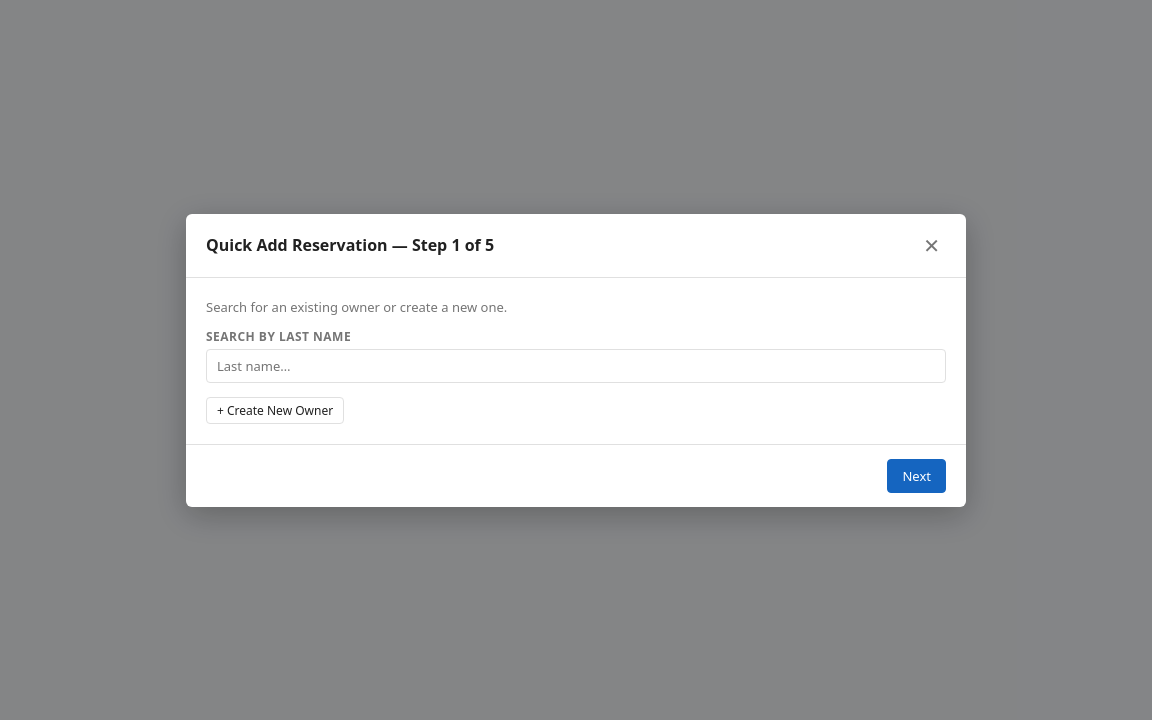
Test case: QuickAddWizard — Step 1 (Owner) › shows selected owner badge after clicking a result
This screenshot has width=1152, height=720.
In the field with placeholder "Last name…": (576, 366) top-left (206, 348), bottom-right (946, 382), type "Doe"
Wait 350 ms
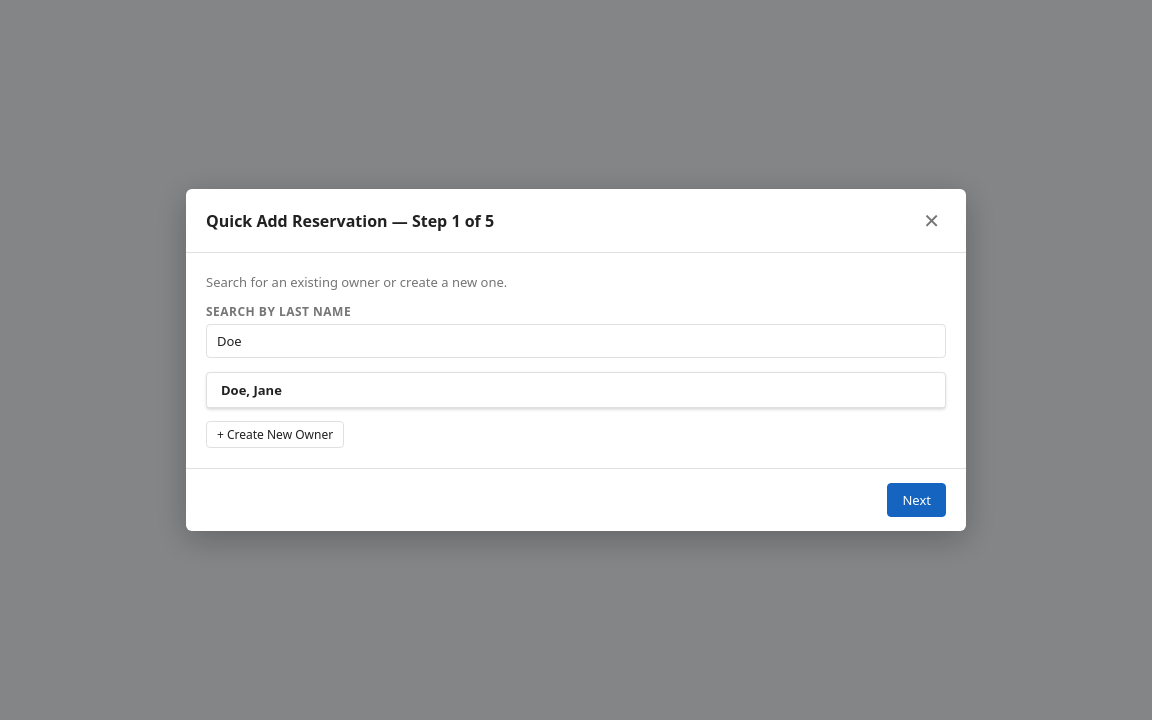
Click the text "Doe, Jane": (234, 390) top-left (221, 381), bottom-right (282, 399)
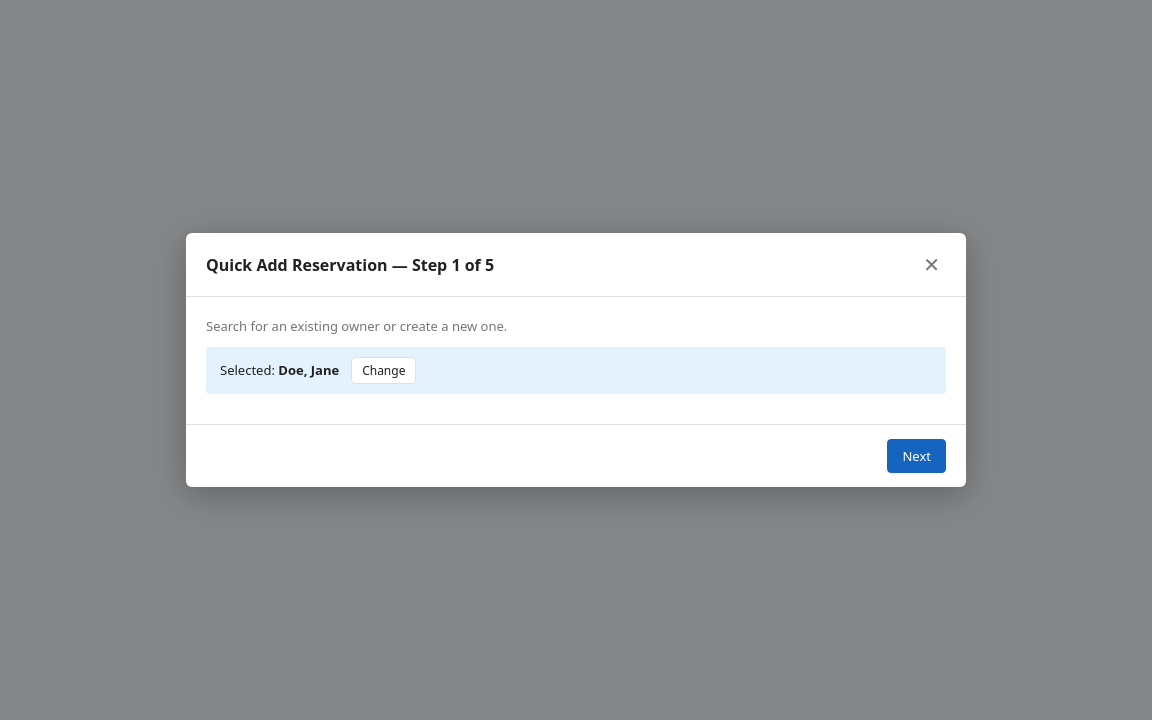
Expected: the text "Selected: Doe, Jane Change" is shown, top-left (206, 347), bottom-right (946, 394)
